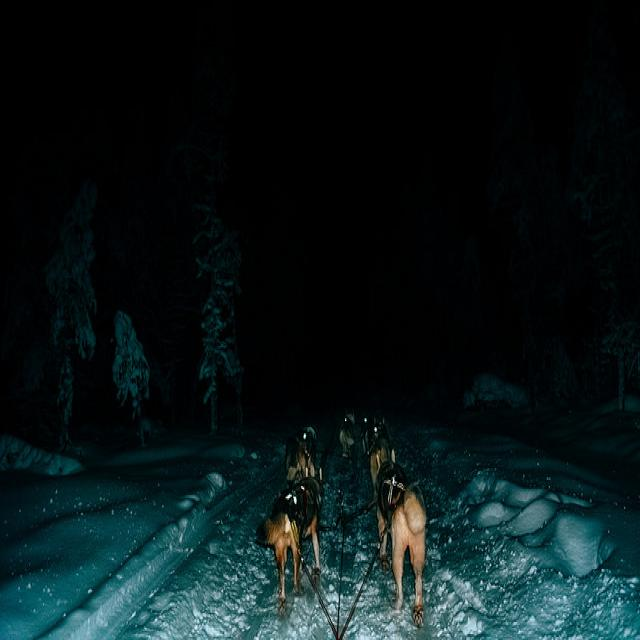Dog: (245, 399, 439, 602)
